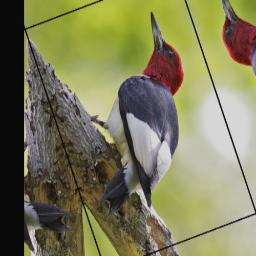Woodpecker: (48, 9, 220, 224)
